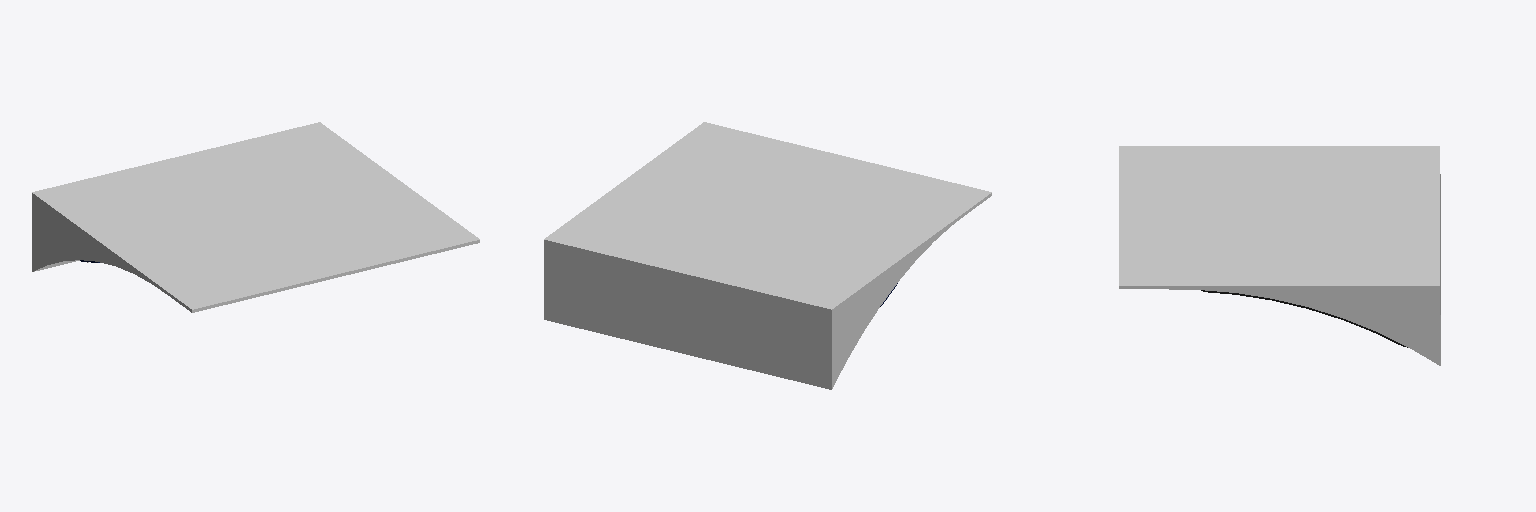
File: orelsan_mur.obj
The picture shows the model from 3 angles: view 1: azimuth 30°, elevation 25°; view 2: azimuth 150°, elevation 25°; view 3: azimuth 270°, elevation 25°; orthographic projection.
Visible parts, largest first — view 1: orelsan_mur.obj.1; view 2: orelsan_mur.obj.1; view 3: orelsan_mur.obj.1.
Part boxes in pixels (x1,y1,x2,y2): orelsan_mur.obj.1: (32,122,479,312); orelsan_mur.obj.1: (544,122,991,389); orelsan_mur.obj.1: (1119,146,1440,365).
Size of the model in its own units: 500 by 133 by 483.